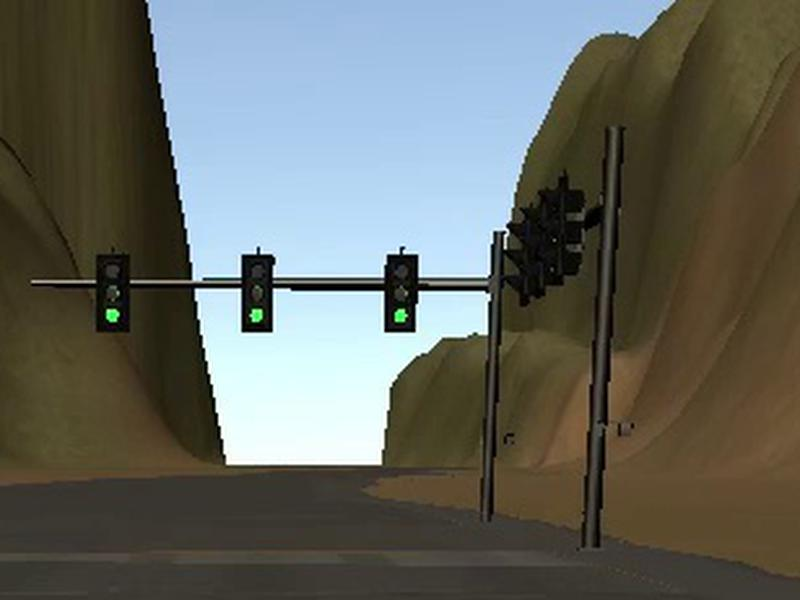Green: (95, 254, 130, 332), (385, 253, 419, 332), (241, 254, 273, 332)
